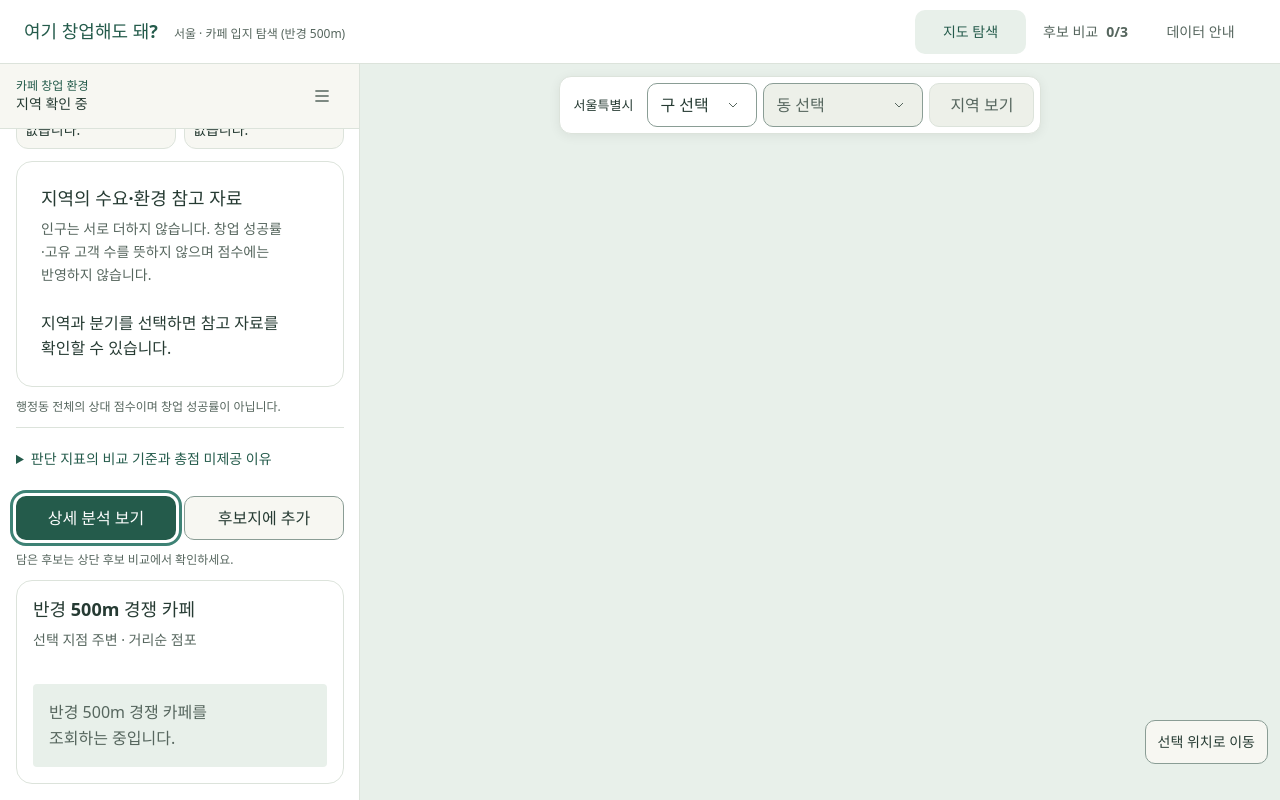
moves keyboard focus to the detail heading after opening analysis
This screenshot has width=1280, height=800.
(page scrolled)
Click the button "상세 분석 보기" at (96, 518), box [16, 496, 176, 540]
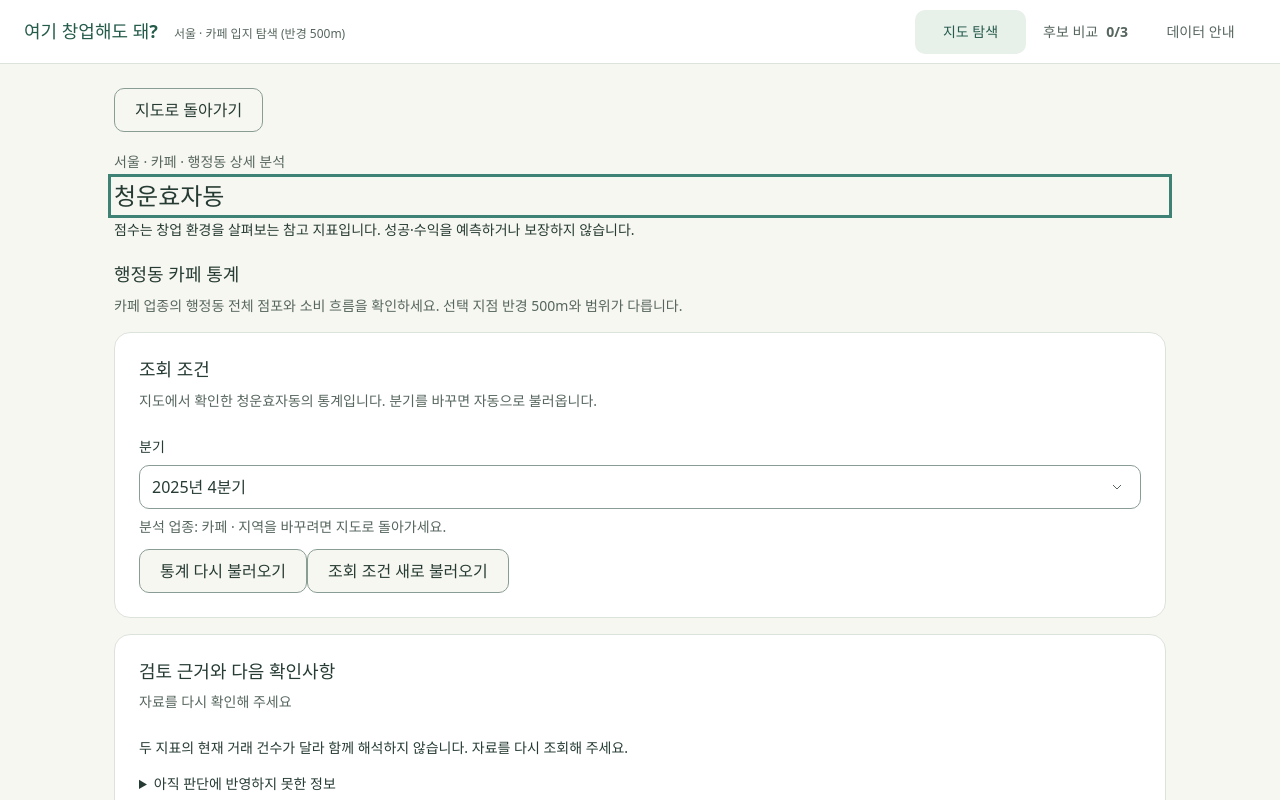
Now the heading "행정동 카페 통계" is shown, box [114, 262, 239, 286]
